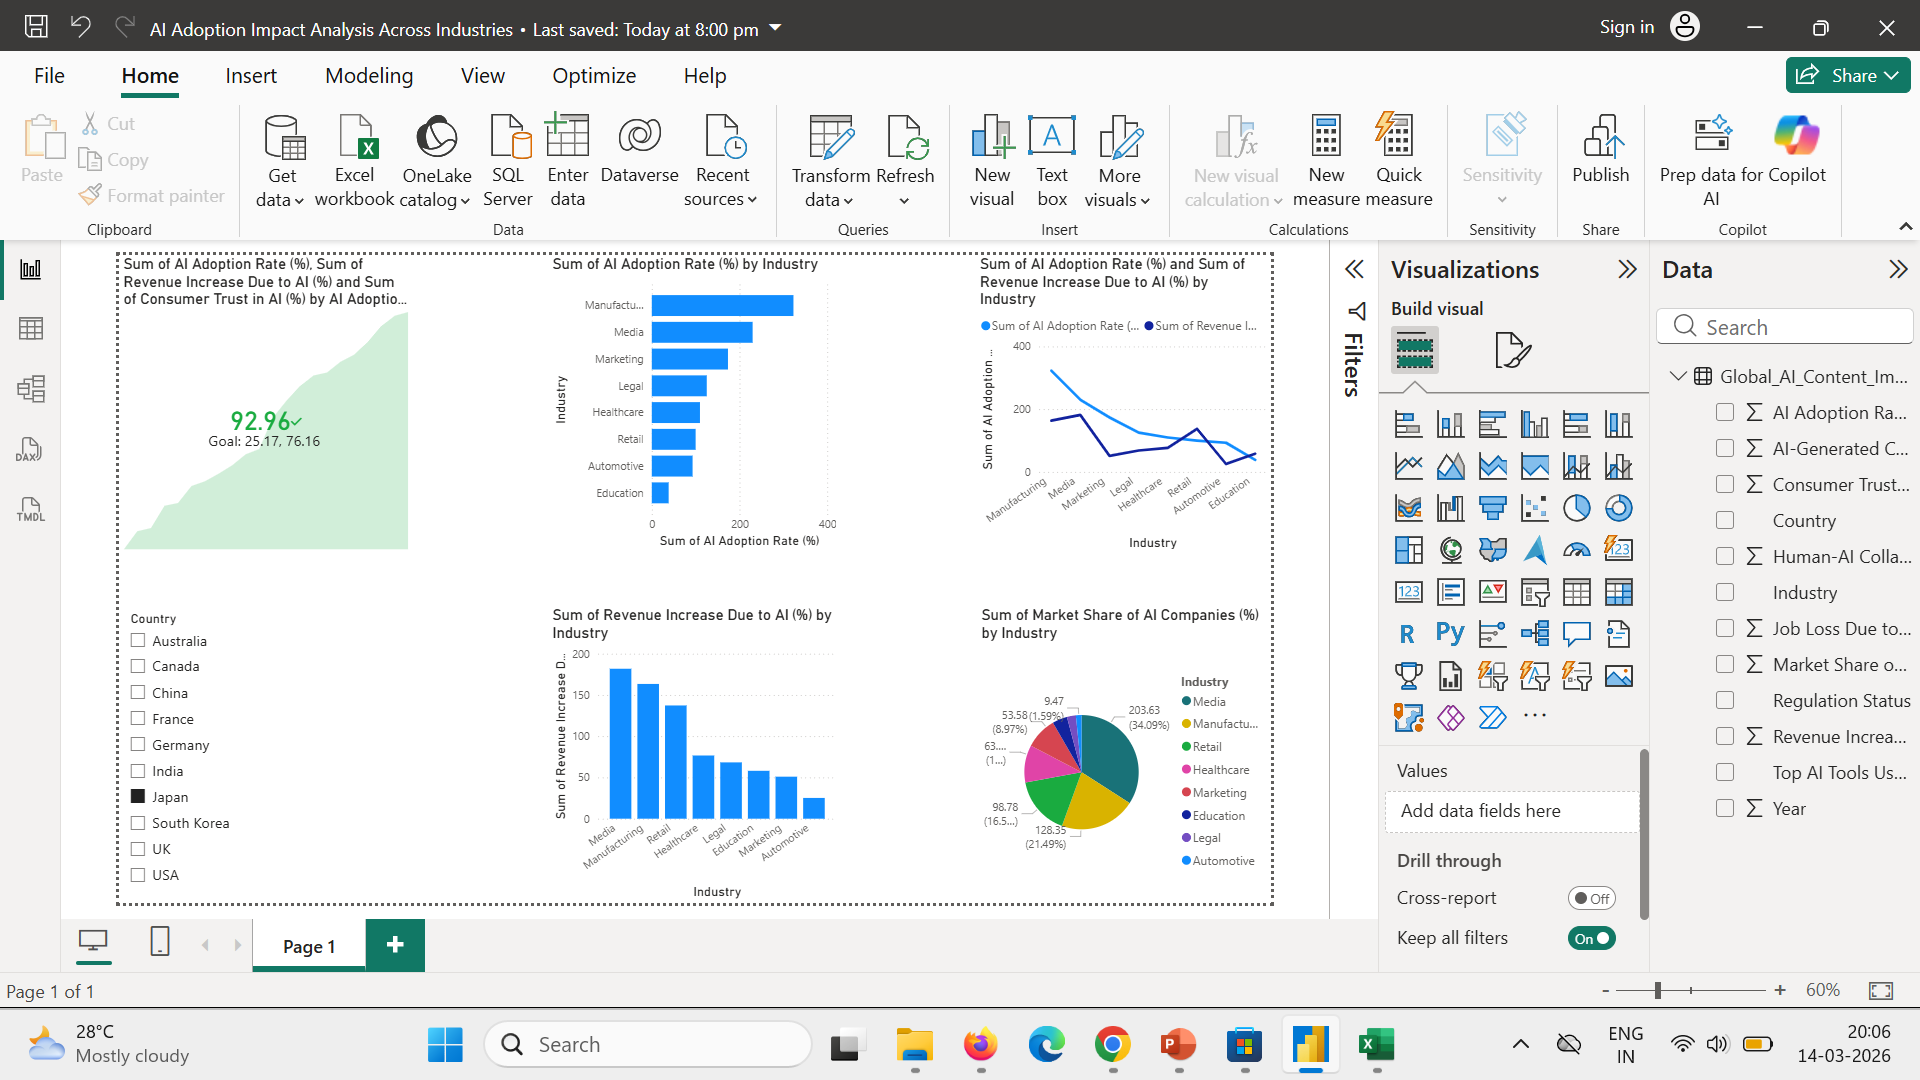

The dashboard page shown, as its layout file describes it:
{"tool":"powerbi","page":{"name":"Page 1","canvas":[1280,720],"ordinal":0},"visuals":[{"type":"clusteredBarChart","fields":{"Category":["Global_AI_Content_Impact_Datase.Industry"],"Y":["Sum(Global_AI_Content_Impact_Datase.AI Adoption Rate (%))"]},"box":[476.7,0,325,330],"z":0},{"type":"clusteredColumnChart","fields":{"Category":["Global_AI_Content_Impact_Datase.Industry"],"Y":["Sum(Global_AI_Content_Impact_Datase.Revenue Increase Due to AI (%))"]},"box":[476.7,390,325,330],"z":1},{"type":"lineChart","fields":{"Y":["Sum(Global_AI_Content_Impact_Datase.AI Adoption Rate (%))","Sum(Global_AI_Content_Impact_Datase.Revenue Increase Due to AI (%))"],"Category":["Global_AI_Content_Impact_Datase.Industry"]},"box":[951.7,0,328.3,331.7],"z":2},{"type":"slicer","fields":{"Values":["Global_AI_Content_Impact_Datase.Country"]},"box":[0,390,328.3,330],"z":3},{"type":"kpi","fields":{"Indicator":["Sum(Global_AI_Content_Impact_Datase.AI Adoption Rate (%))"],"Goal":["Sum(Global_AI_Content_Impact_Datase.Revenue Increase Due to AI (%))","Sum(Global_AI_Content_Impact_Datase.Consumer Trust in AI (%))"],"TrendLine":["Global_AI_Content_Impact_Datase.AI Adoption Rate (%)"]},"box":[0,0,326,332],"z":4},{"type":"pieChart","fields":{"Category":["Global_AI_Content_Impact_Datase.Industry"],"Y":["Sum(Global_AI_Content_Impact_Datase.Market Share of AI Companies (%))"]},"box":[953.3,390,326.7,330],"z":5}]}

Visuals, with their boxes on the page's 1280x720 design canvas (x1, y1, x2, y2). These are canvas units, not pixel positions in the 1920x1080 screenshot, which may show the page scaled, cropped or inside an application window:
clusteredBarChart - Global_AI_Content_Impact_Datase.Industry x Sum(Global_AI_Content_Impact_Datase.AI Adoption Rate (%)): (left=477, top=0, right=802, bottom=330)
clusteredColumnChart - Global_AI_Content_Impact_Datase.Industry x Sum(Global_AI_Content_Impact_Datase.Revenue Increase Due to AI (%)): (left=477, top=390, right=802, bottom=720)
lineChart - Sum(Global_AI_Content_Impact_Datase.AI Adoption Rate (%)) x Sum(Global_AI_Content_Impact_Datase.Revenue Increase Due to AI (%)): (left=952, top=0, right=1280, bottom=332)
slicer - Global_AI_Content_Impact_Datase.Country: (left=0, top=390, right=328, bottom=720)
kpi - Sum(Global_AI_Content_Impact_Datase.AI Adoption Rate (%)) x Sum(Global_AI_Content_Impact_Datase.Revenue Increase Due to AI (%)): (left=0, top=0, right=326, bottom=332)
pieChart - Global_AI_Content_Impact_Datase.Industry x Sum(Global_AI_Content_Impact_Datase.Market Share of AI Companies (%)): (left=953, top=390, right=1280, bottom=720)
